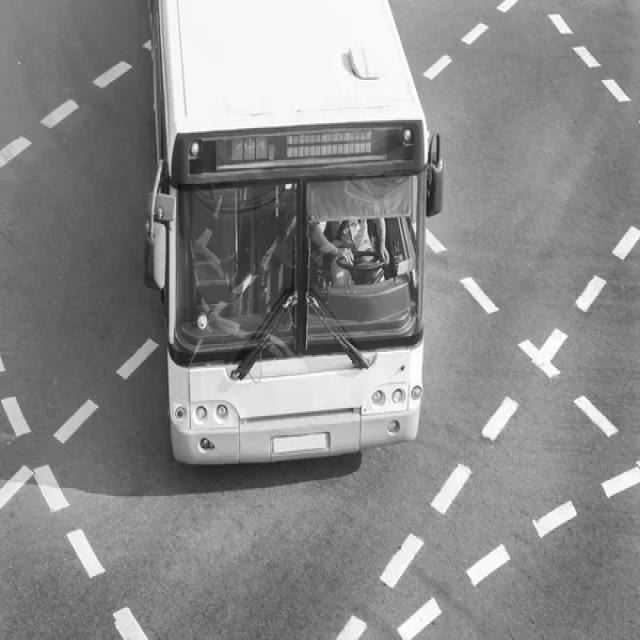Bus: (145, 2, 445, 464)
